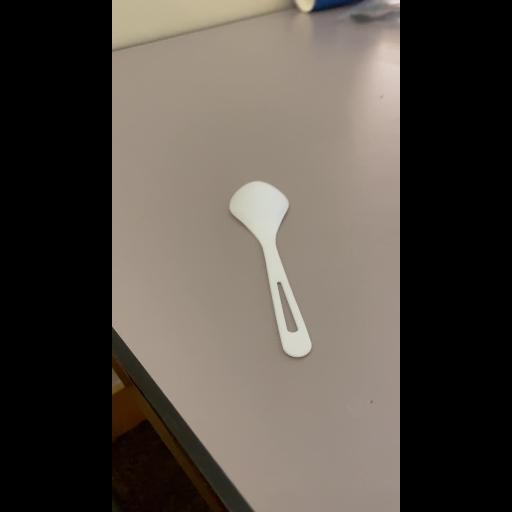utensil: (226, 174, 334, 362)
